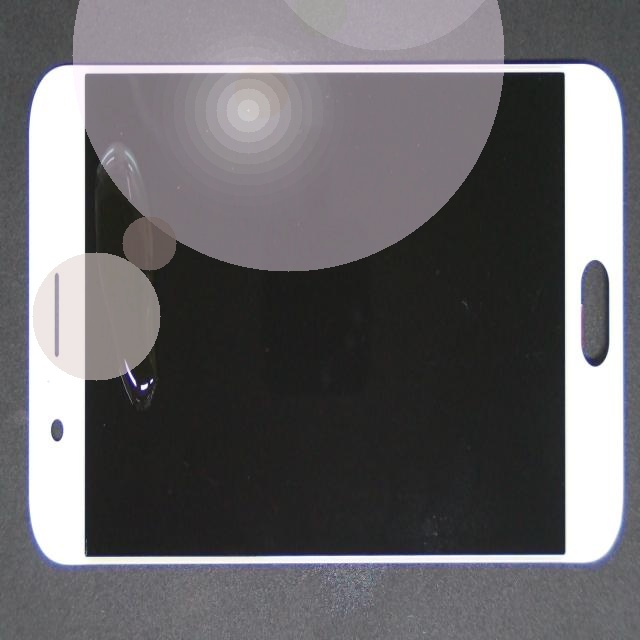oil: (40, 133, 180, 546)
